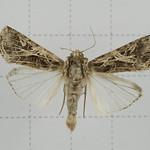Spodoptera litura: (1, 24, 150, 134)
